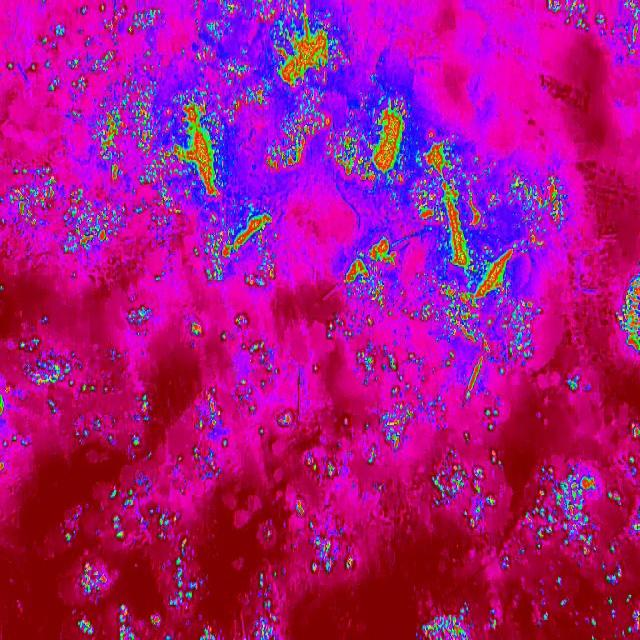fire: (328, 114, 570, 370), (75, 72, 288, 296), (204, 0, 412, 188), (306, 370, 512, 530), (497, 449, 640, 640), (0, 302, 165, 466), (62, 465, 214, 640), (180, 309, 299, 482), (250, 477, 357, 640), (0, 163, 138, 273), (2, 0, 166, 91), (544, 0, 640, 54), (405, 602, 502, 640), (614, 266, 640, 360), (564, 371, 582, 399), (627, 421, 640, 443)
